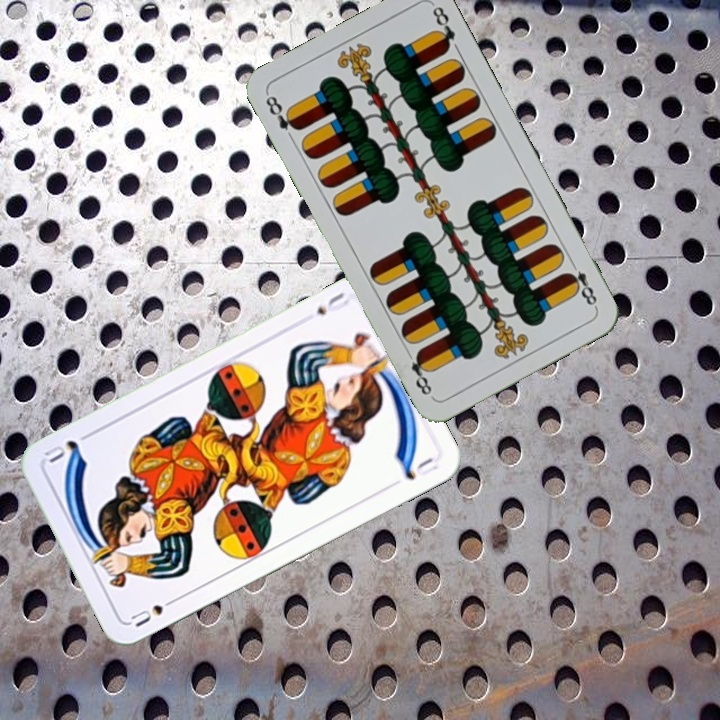E8: (562, 256, 600, 311), (261, 90, 303, 134)
SU: (126, 593, 181, 630), (312, 288, 350, 318)
